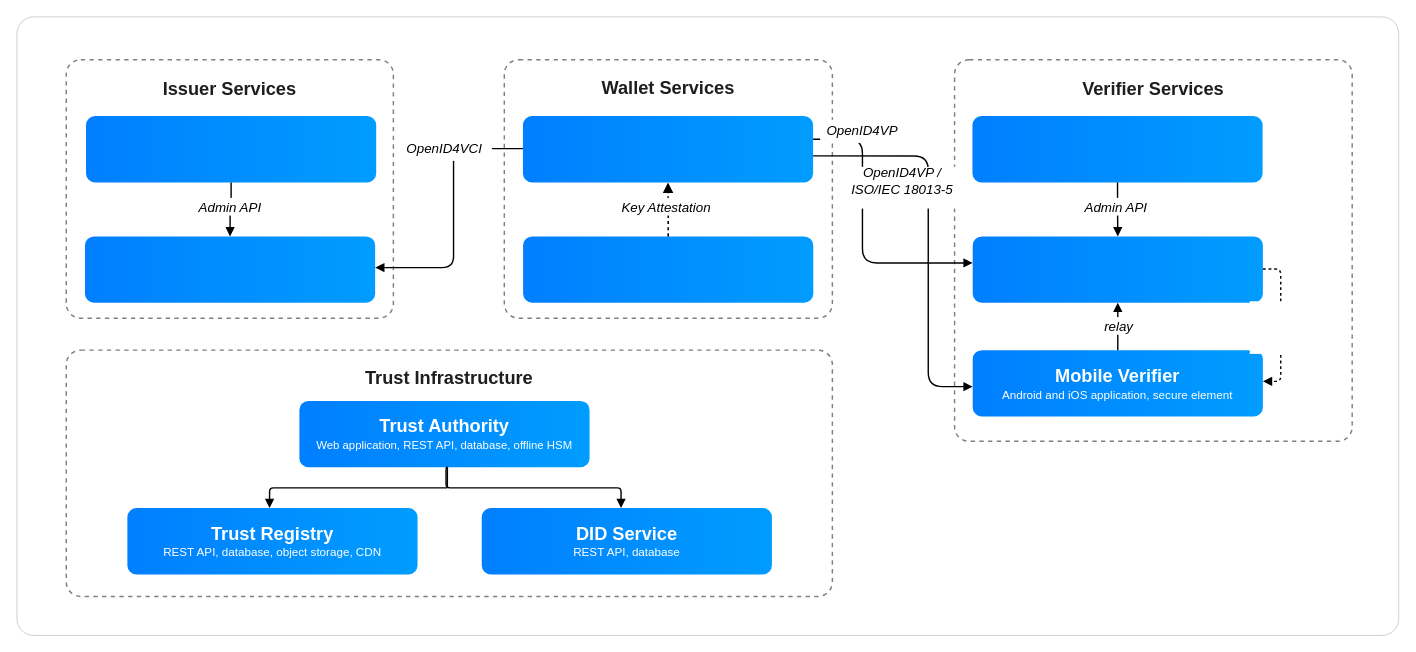
Image size: 1416x652. Some labels were removed from this diagram. The centre of each missing label's shape, as x and y in pixels:
"Issuer Console Web application" goes at [231,149].
"Issuer Core REST API, cache, database" goes at [230,269].
"Mobile Wallet Android and iOS application, secure element" goes at [667,149].
"Verifier Console Web application" goes at [1117,149].
"Verifier Core REST API, cache, database" goes at [1117,269].
"Verifier Device Certificate" goes at [1282,327].
"Wallet Backend Service REST API, database" goes at [668,269].
